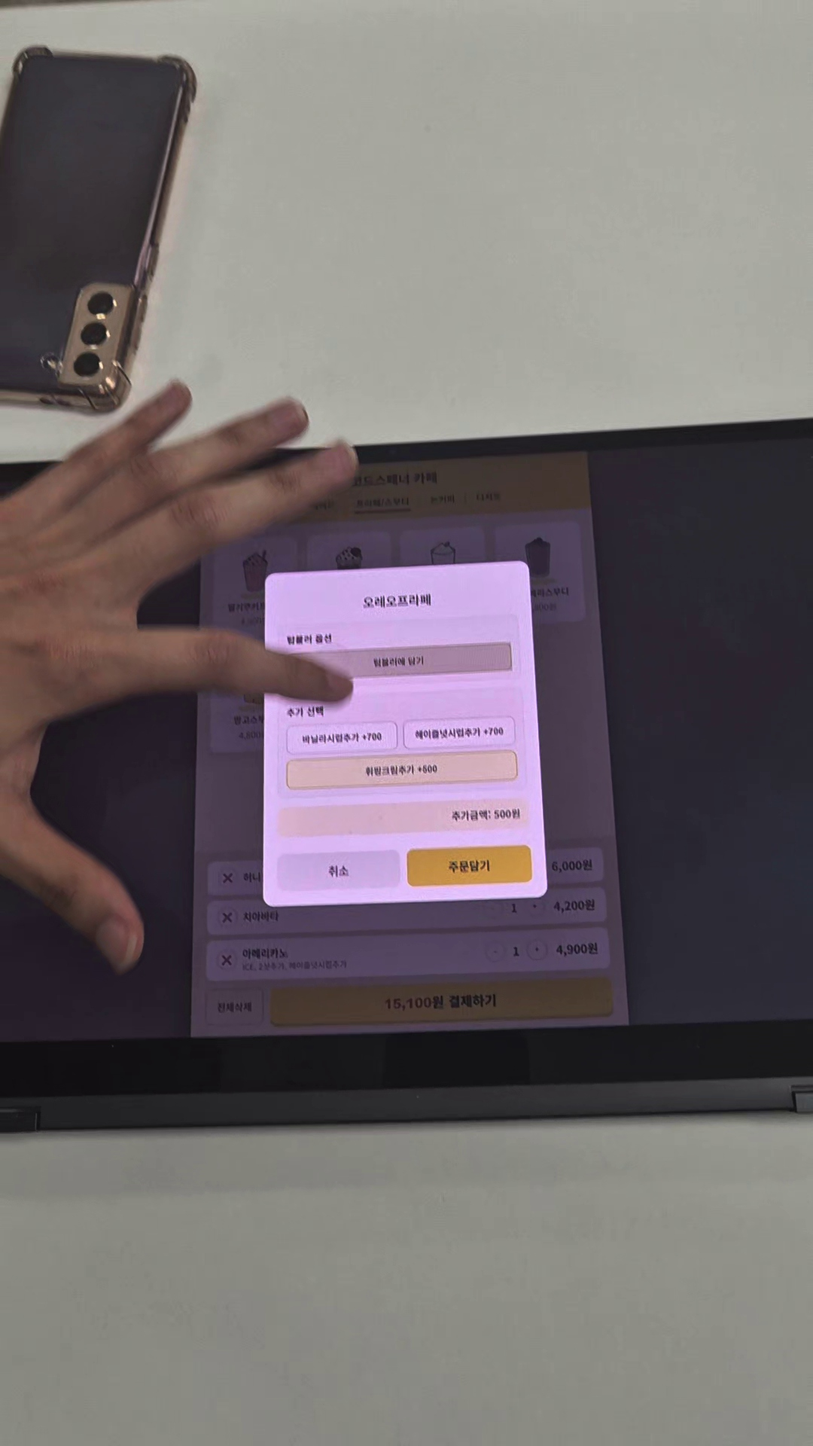action_button: (277, 850, 399, 892), (407, 845, 529, 887)
option_button: (287, 641, 511, 682), (287, 751, 517, 789), (286, 722, 398, 754), (403, 716, 515, 748)
popup_modal: (264, 559, 548, 907)
